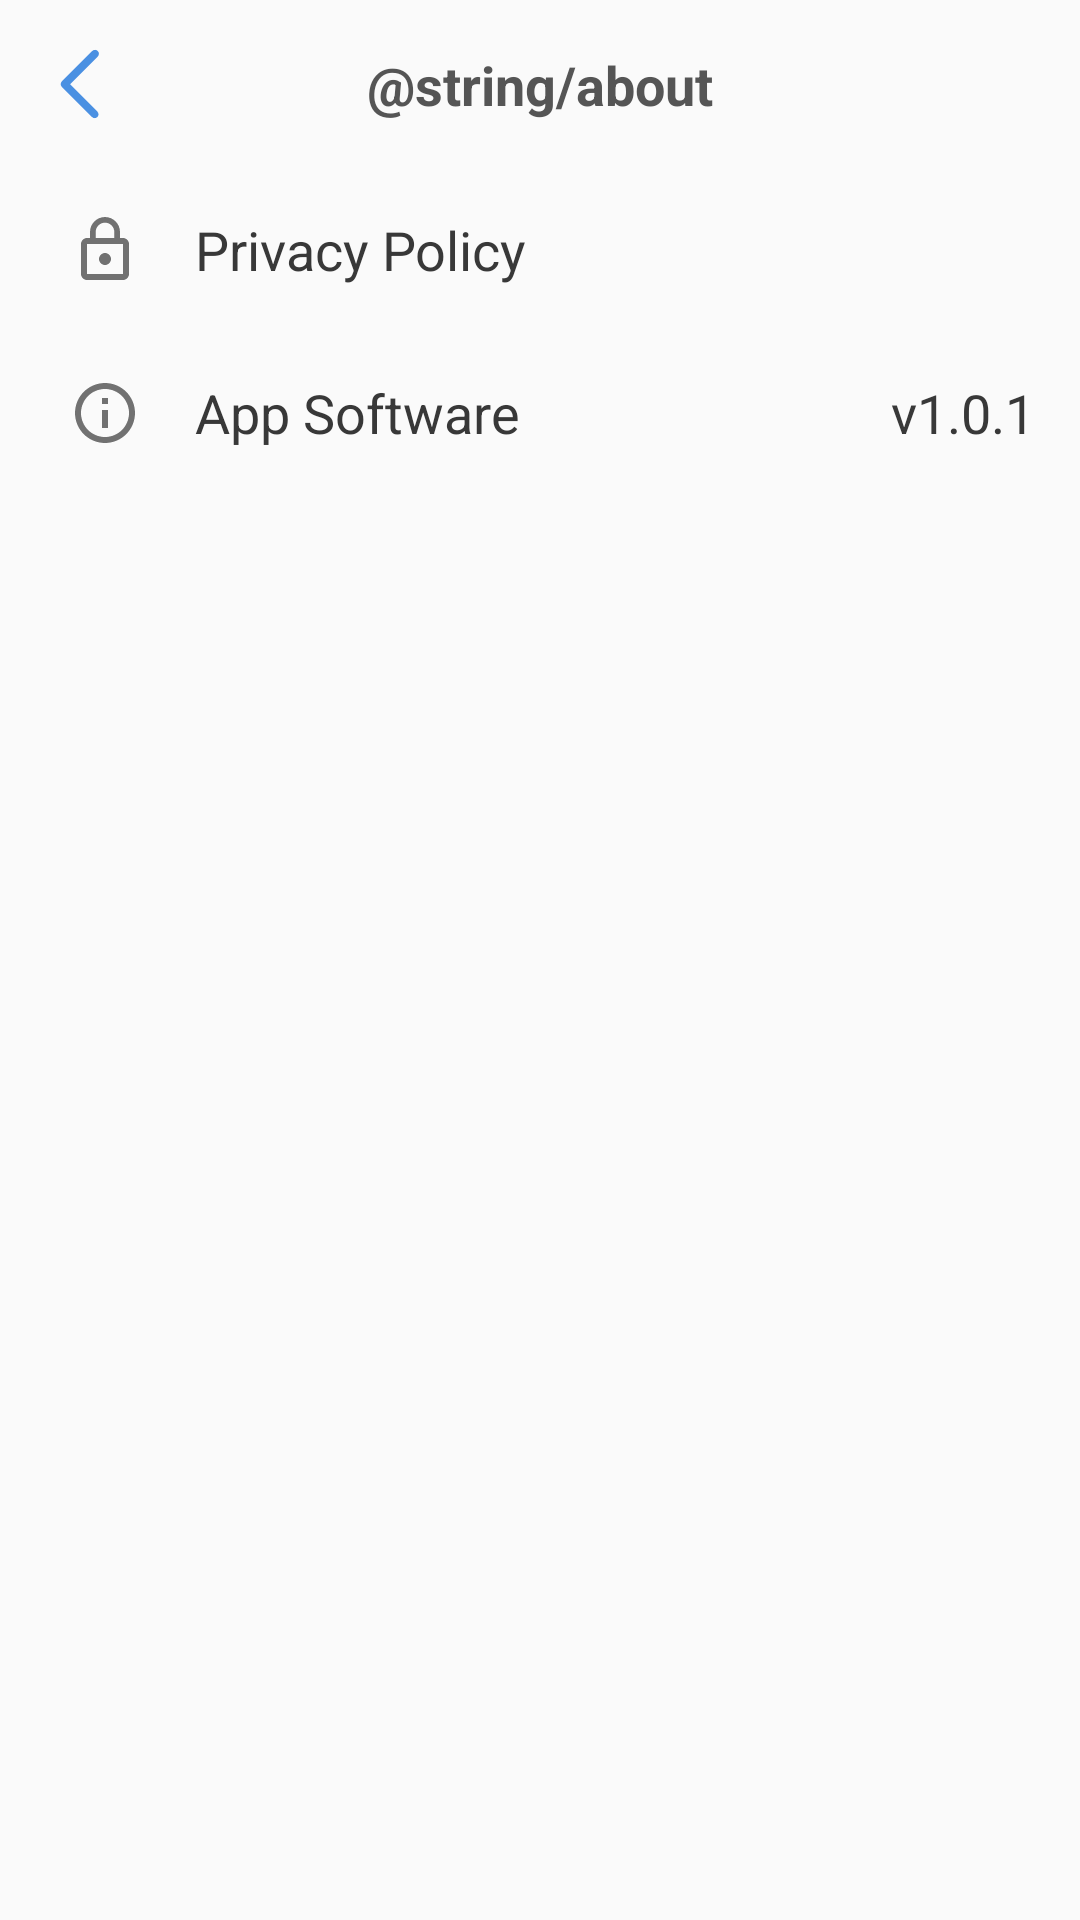

Named icons in this screenshot (1080w x 1920h) and their bounding boxes, (x1, y1, x2, y2):
back: (60, 50, 99, 118)
info: (75, 383, 135, 443)
lock: (81, 217, 129, 280)
